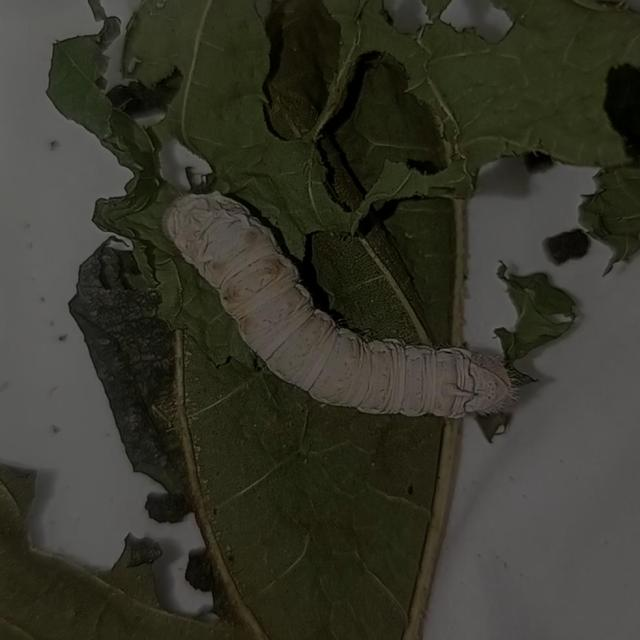Healthy: (154, 182, 521, 429)
